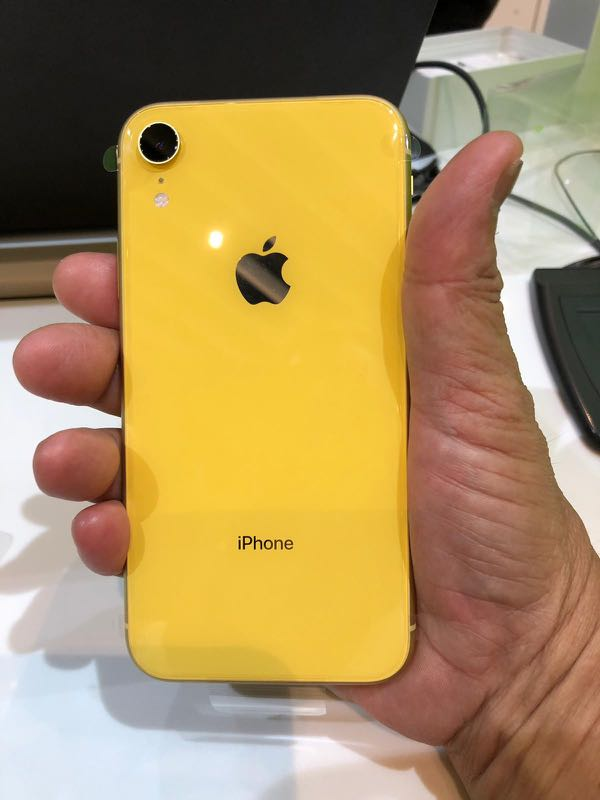apple: (201, 206, 311, 330)
